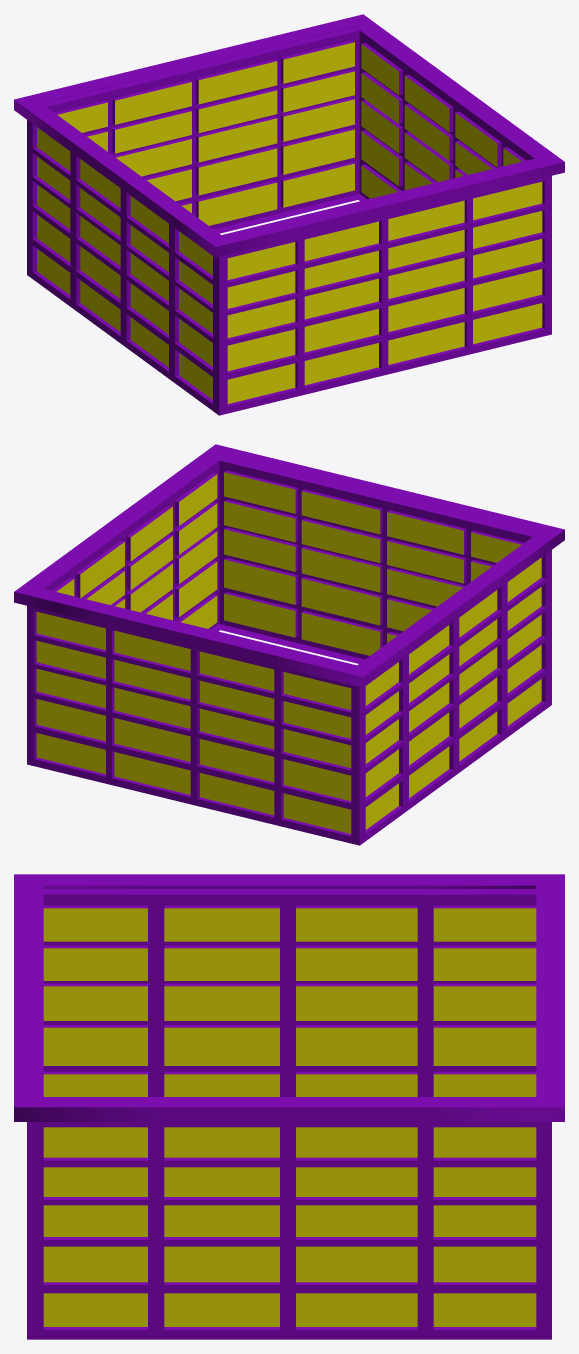
File: Building_Large_Peice_001.fbx
The picture shows the model from 3 angles, top to bottom: view 1: azimuth 30°, elevation 25°; view 2: azimuth 150°, elevation 25°; view 3: azimuth 270°, elevation 25°; orthographic projection. The views are drawn at different scales.
Parts seen in each view (by area): view 1: Building_Large_Piece_001; view 2: Building_Large_Piece_001; view 3: Building_Large_Piece_001.
Boxes of the visible parts, <box> form: Building_Large_Piece_001: <box>14,14,564,415</box>; Building_Large_Piece_001: <box>14,444,564,845</box>; Building_Large_Piece_001: <box>14,874,564,1339</box>.
Bounding box in the file's own units: 8400 × 4000 × 8400.
